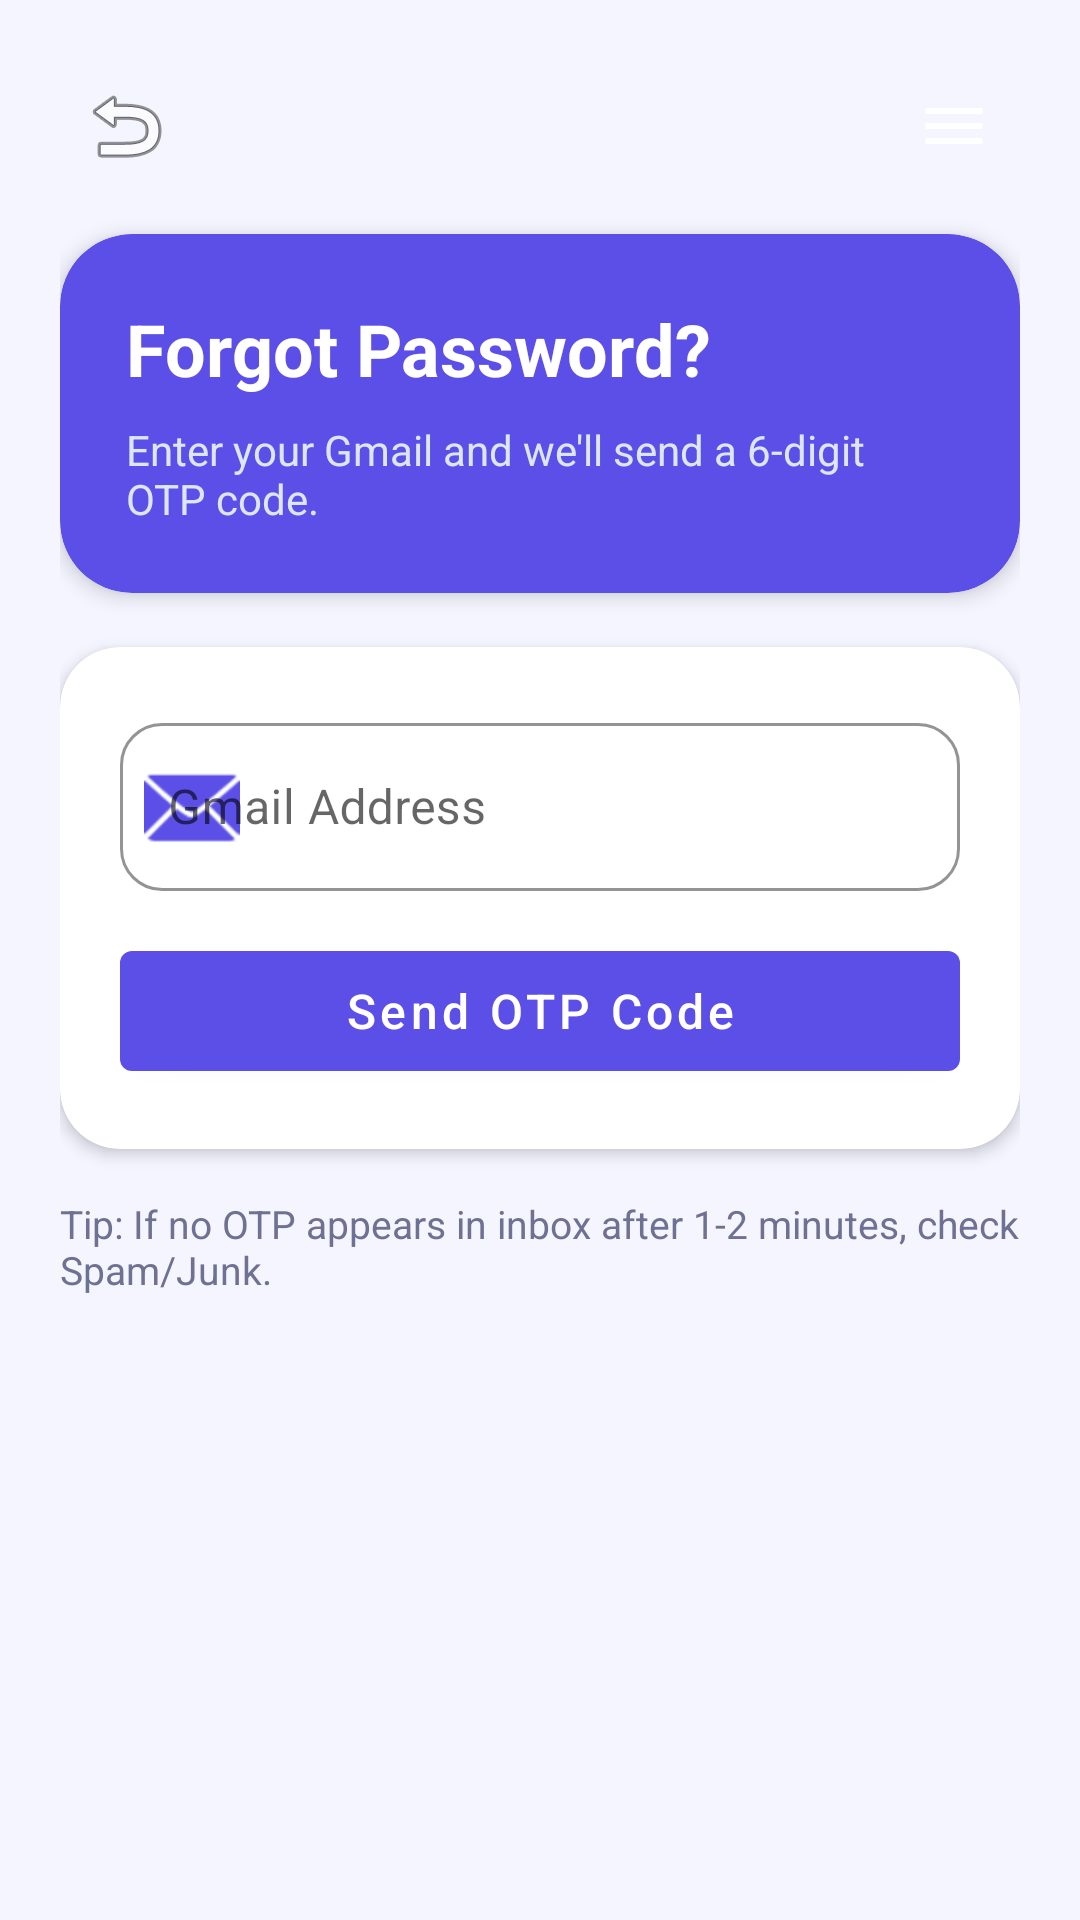

Screen size 1080*1920. Icon name, then its center in pixels as point (x, y):
Back: point (127, 126)
